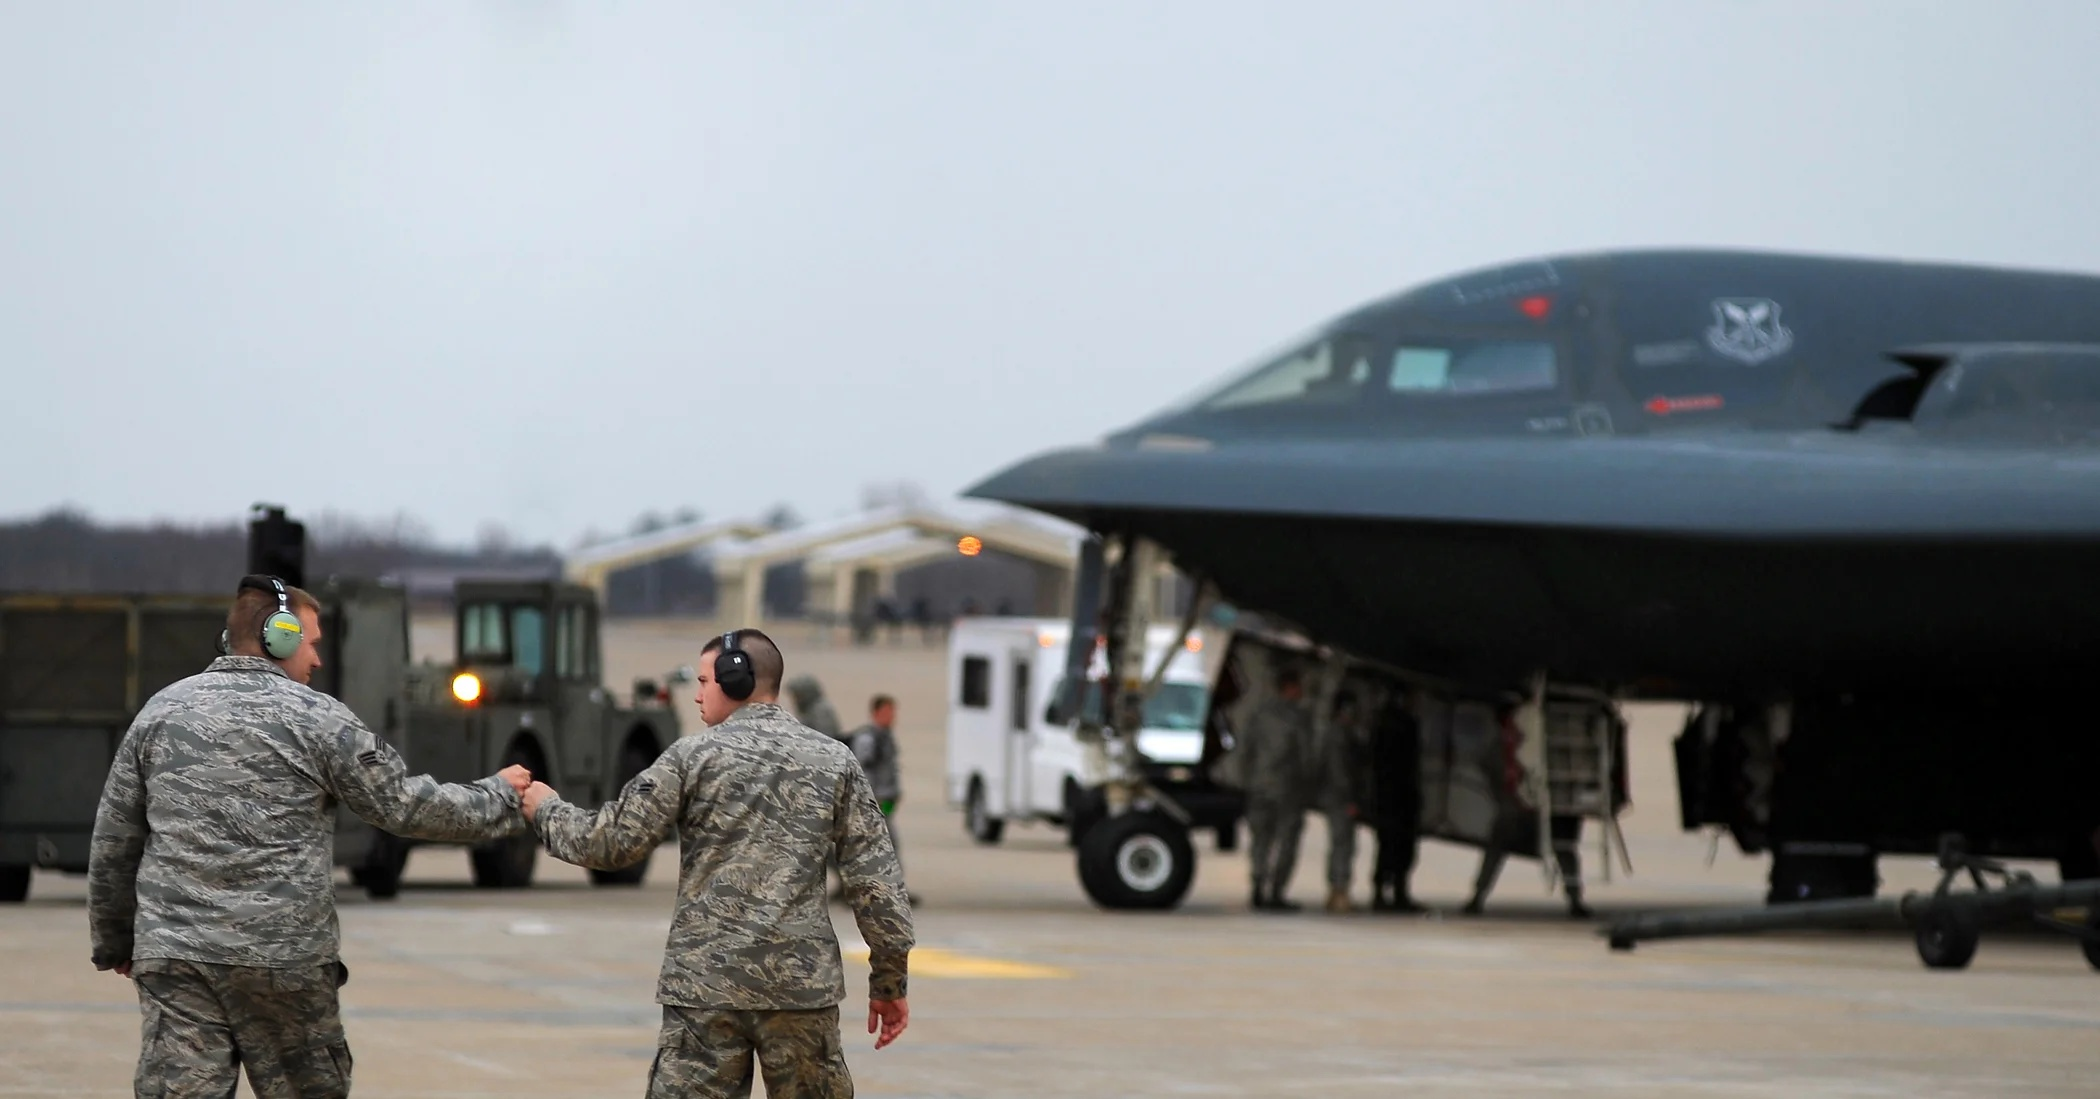B2: (949, 246, 2100, 909)
